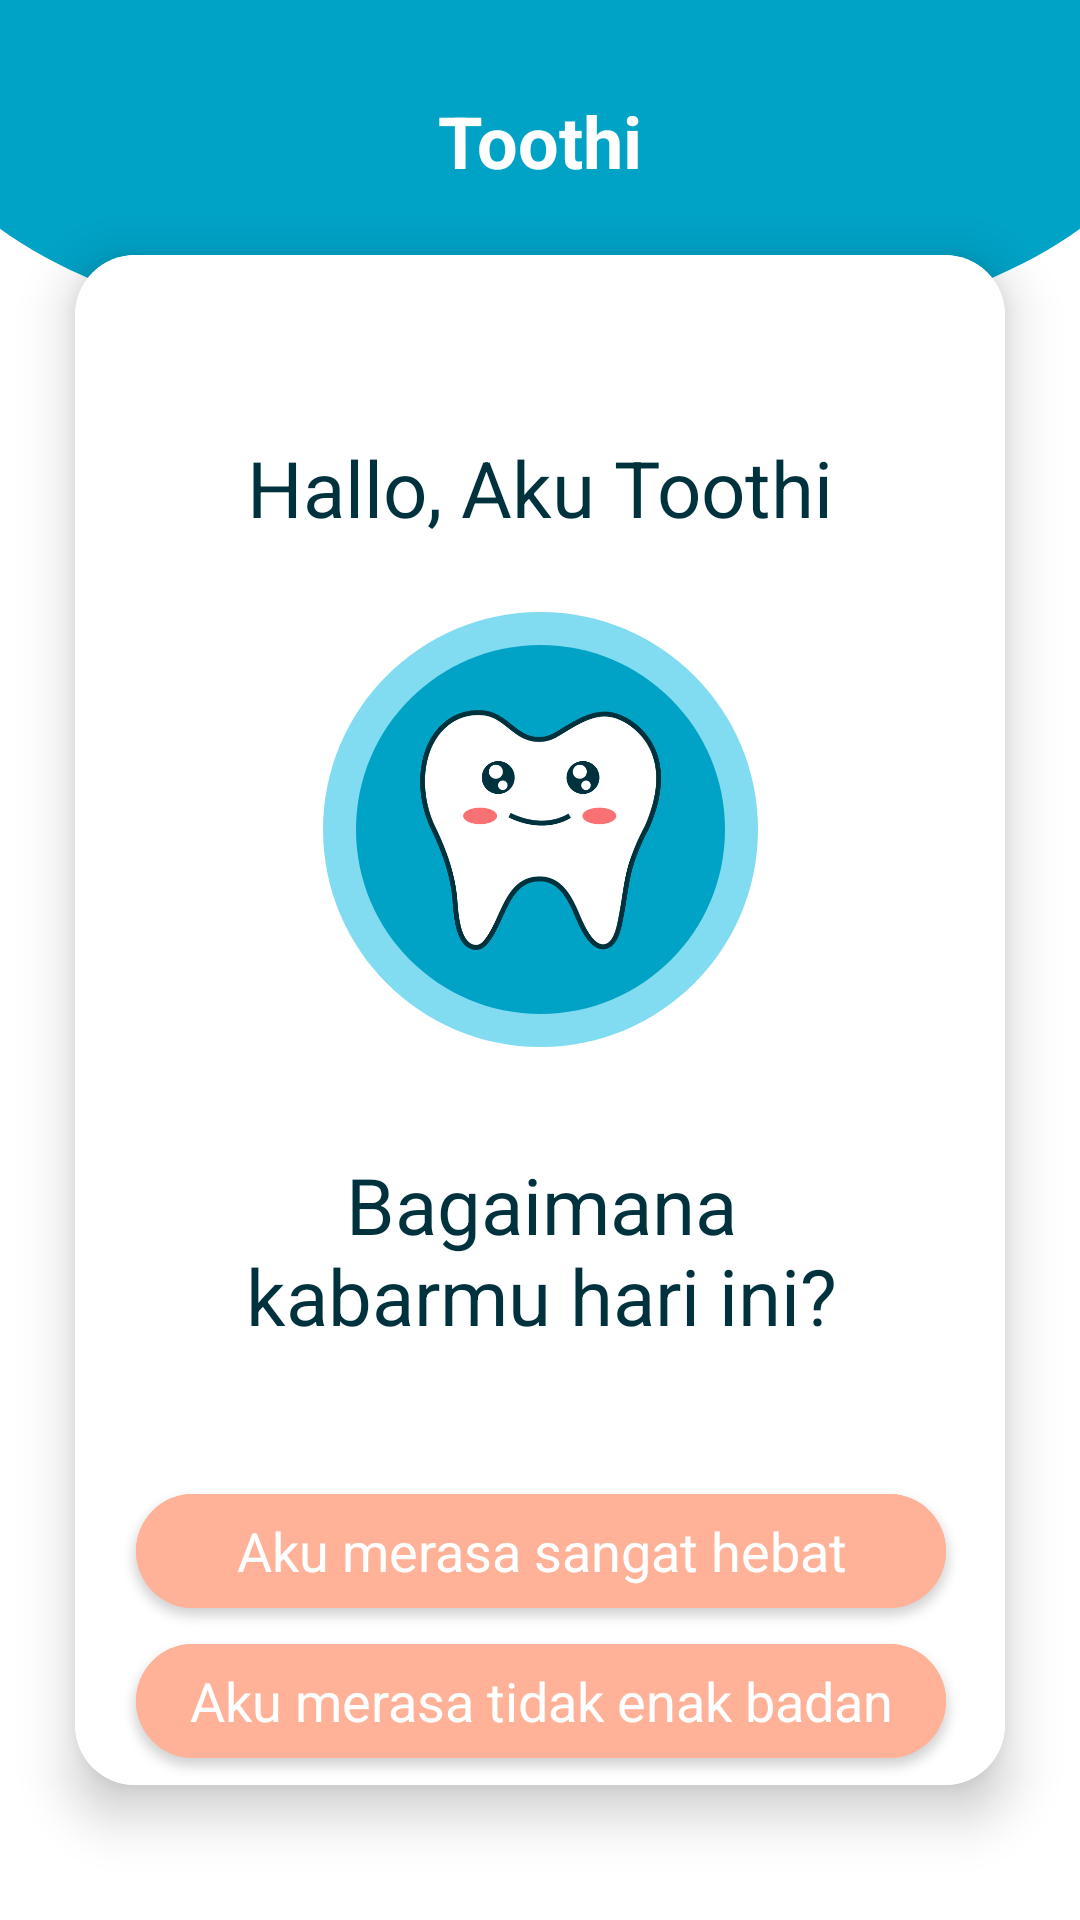

Icons on this 1080*1920 Android screen, each with its box as (x1, y1, x2, y2):
Toothi: (420, 710, 661, 950)
